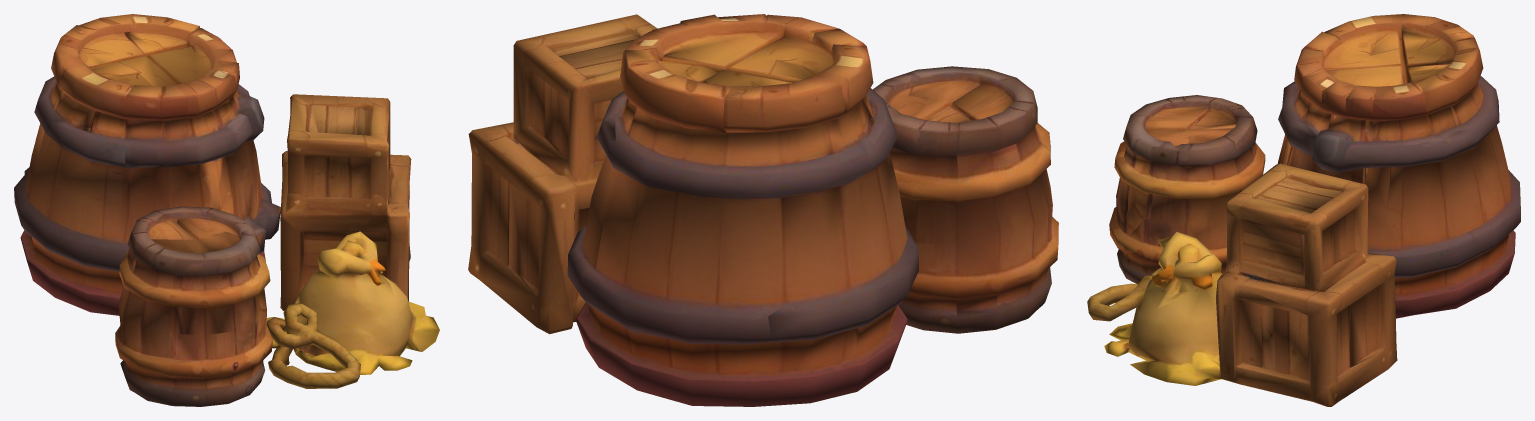
3 renders of one model, left to right at view 1: azimuth 30°, elevation 25°; view 2: azimuth 150°, elevation 25°; view 3: azimuth 270°, elevation 25°, orthographic. The views are drawn at different scales.
Visible parts, largest first — view 1: tripo_node_acc208be-e530-41a5-b2be-fc1119afe15f; view 2: tripo_node_acc208be-e530-41a5-b2be-fc1119afe15f; view 3: tripo_node_acc208be-e530-41a5-b2be-fc1119afe15f.
Part boxes in pixels (x1,y1,x2,y2): tripo_node_acc208be-e530-41a5-b2be-fc1119afe15f: [14, 14, 439, 406]; tripo_node_acc208be-e530-41a5-b2be-fc1119afe15f: [468, 14, 1058, 406]; tripo_node_acc208be-e530-41a5-b2be-fc1119afe15f: [1087, 14, 1520, 406].
Size of the model in its own units: 0.945 by 0.6228 by 1.
1 material, 1 textured.
